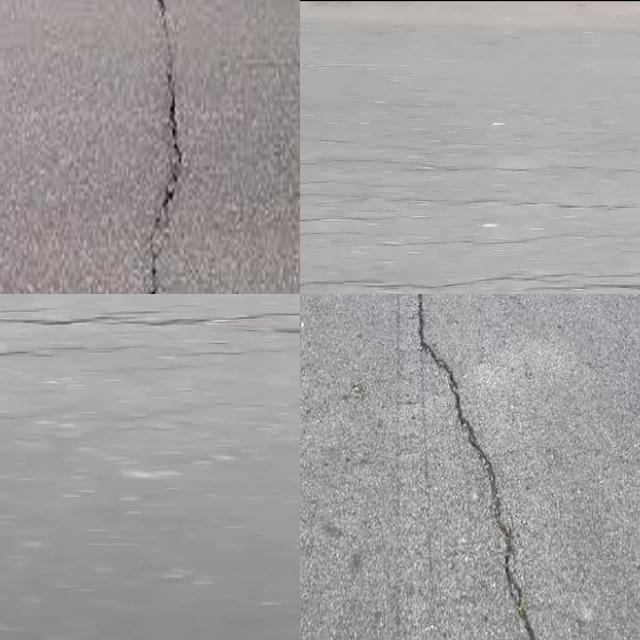Melintang: (0, 298, 300, 350), (300, 268, 640, 294)
Memanjang: (387, 294, 551, 640), (112, 0, 203, 294)
